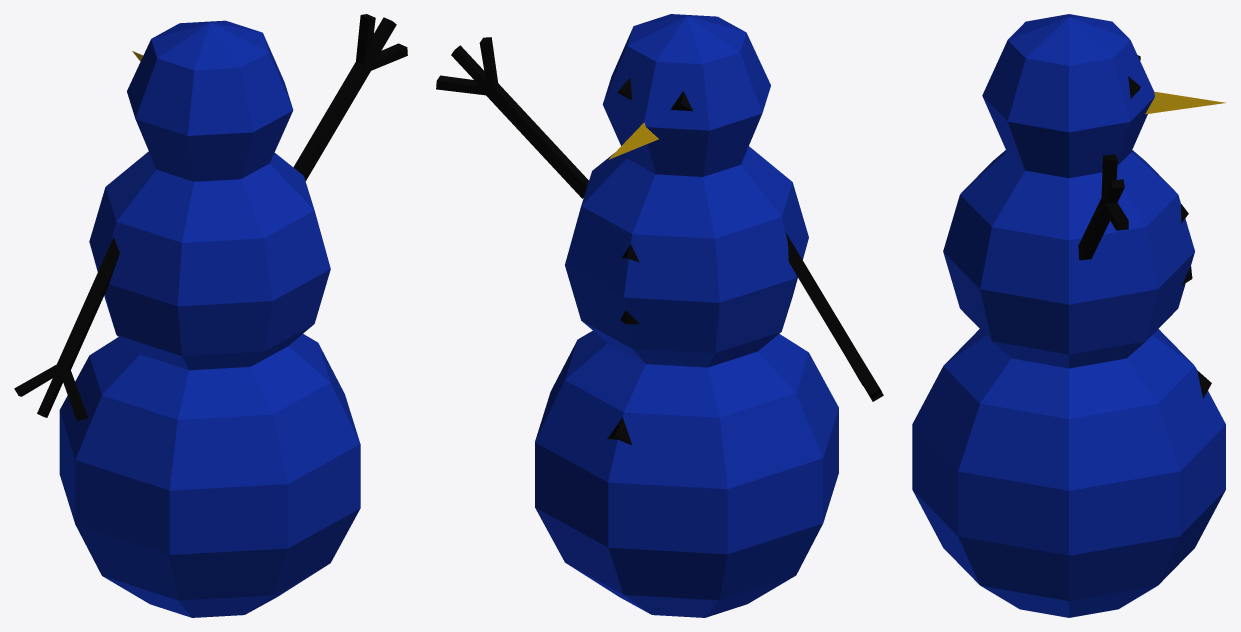
The model's file is snowman.obj.
The picture shows the model from 3 angles, left to right: view 1: azimuth 30°, elevation 25°; view 2: azimuth 150°, elevation 25°; view 3: azimuth 270°, elevation 25°; orthographic projection.
Visible parts, largest first — view 1: Sphere_Sphere.003; view 2: Sphere_Sphere.003; view 3: Sphere_Sphere.003.
Boxes of the visible parts, x1,y1,x2,y2 form: Sphere_Sphere.003: (14, 14, 407, 617); Sphere_Sphere.003: (436, 14, 883, 617); Sphere_Sphere.003: (912, 14, 1225, 617).
Bounding box in the file's own units: 3 × 4.02 × 1.95.
